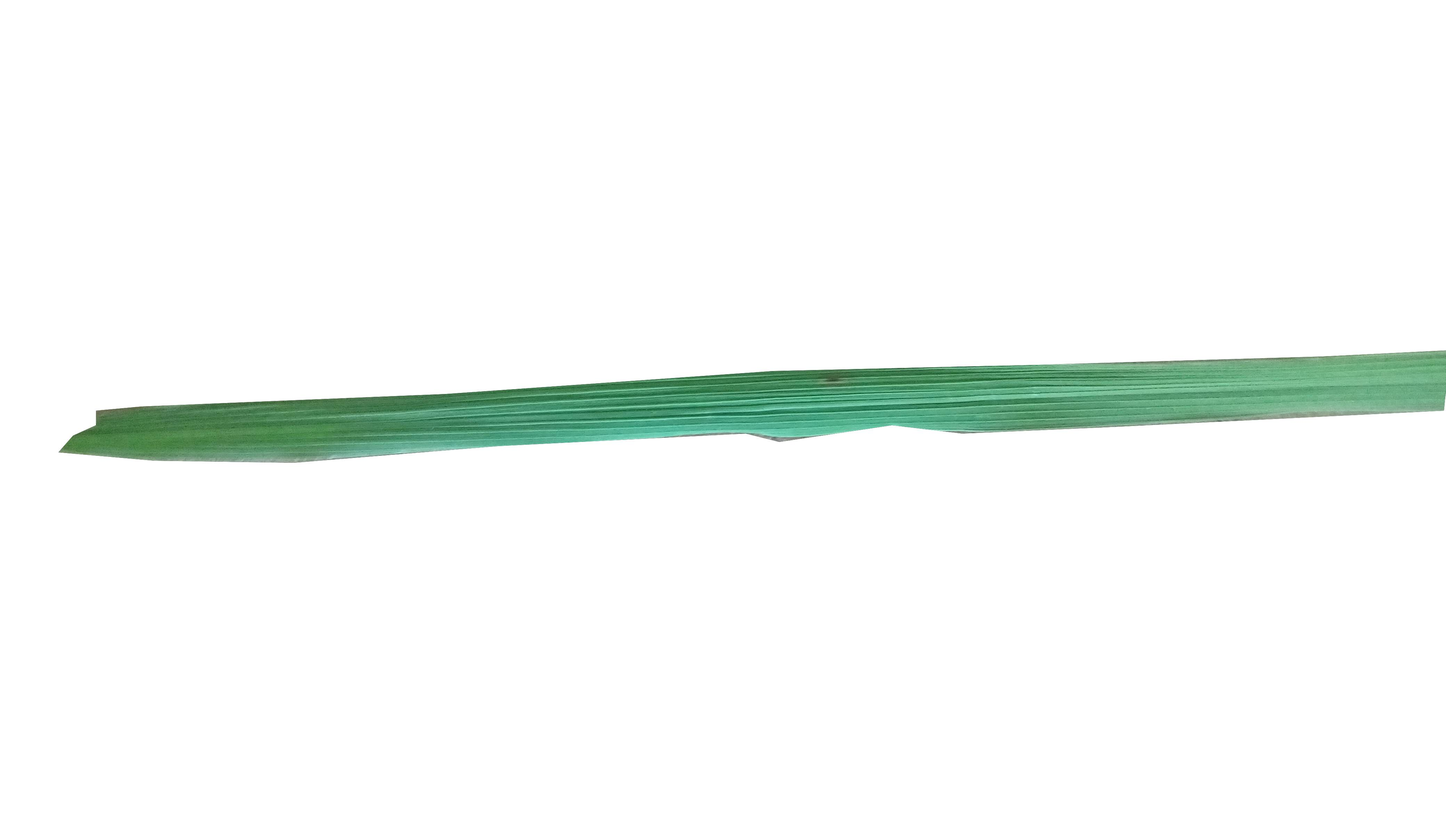Brown spot: (820, 374, 848, 392)
